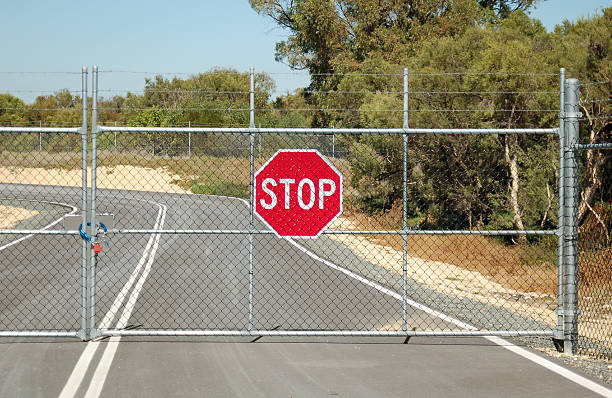stopsign: (252, 149, 344, 240)
